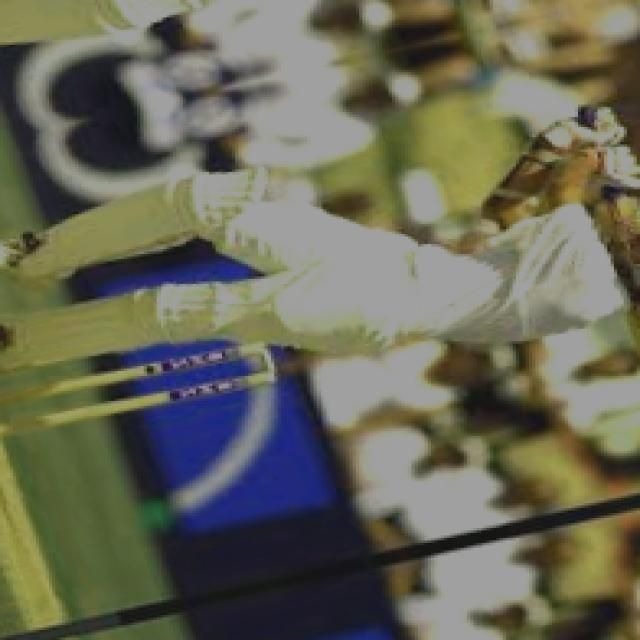toe: (636, 265, 640, 312)
